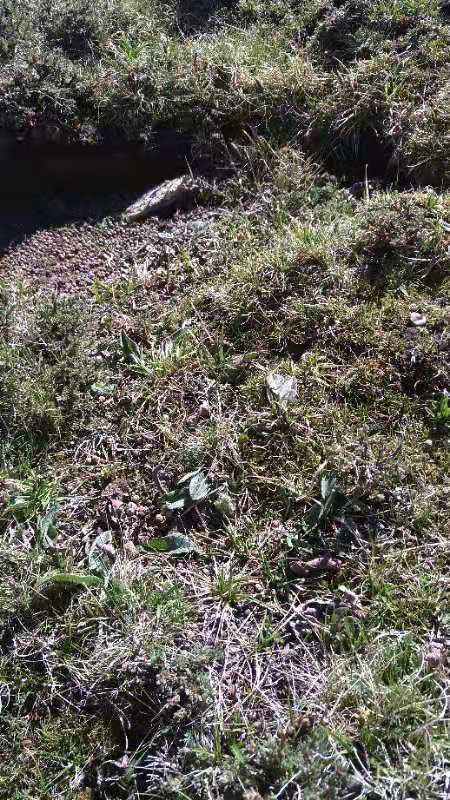cpf: (150, 461, 172, 501)
